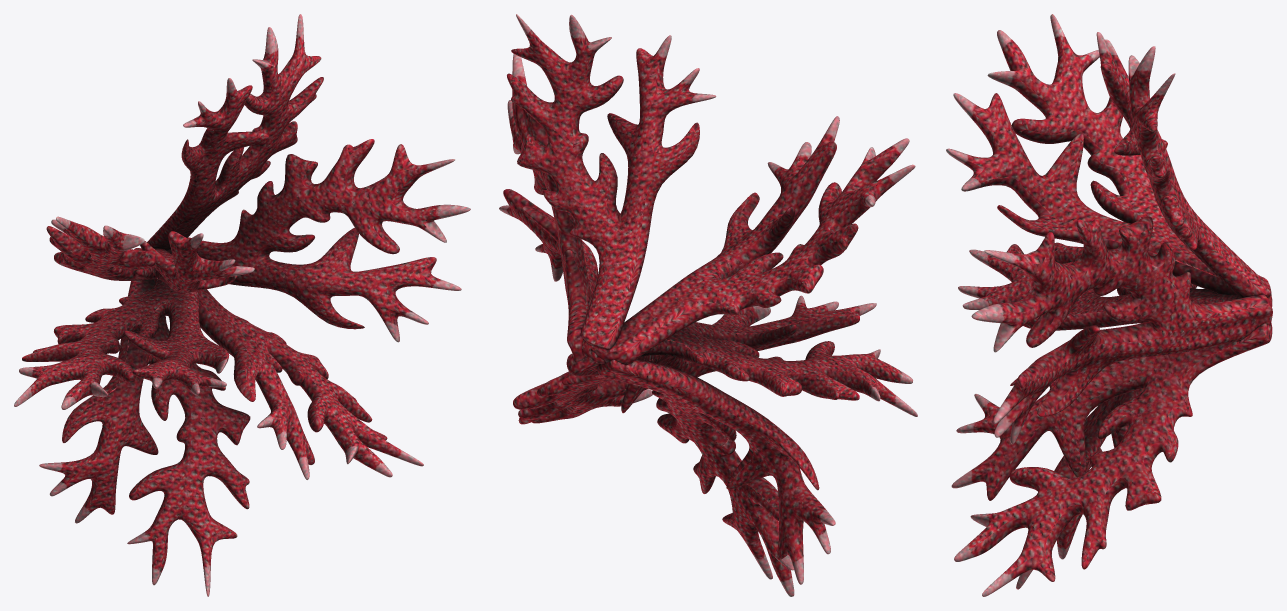
The model's file is 10010_Coral_v1_L3.obj.
The picture shows the model from 3 angles, left to right: view 1: azimuth 30°, elevation 25°; view 2: azimuth 150°, elevation 25°; view 3: azimuth 270°, elevation 25°; orthographic projection. The views are drawn at different scales.
Visible parts, largest first — view 1: 10010_Coral_v1; view 2: 10010_Coral_v1; view 3: 10010_Coral_v1.
Part boxes in pixels (box(x1,y1,x2,y2)): 10010_Coral_v1: box(14, 14, 470, 596); 10010_Coral_v1: box(499, 14, 917, 596); 10010_Coral_v1: box(946, 14, 1272, 596).
Size of the model in its own units: 70.26 by 82.9 by 40.05.
1 material, 1 textured.
